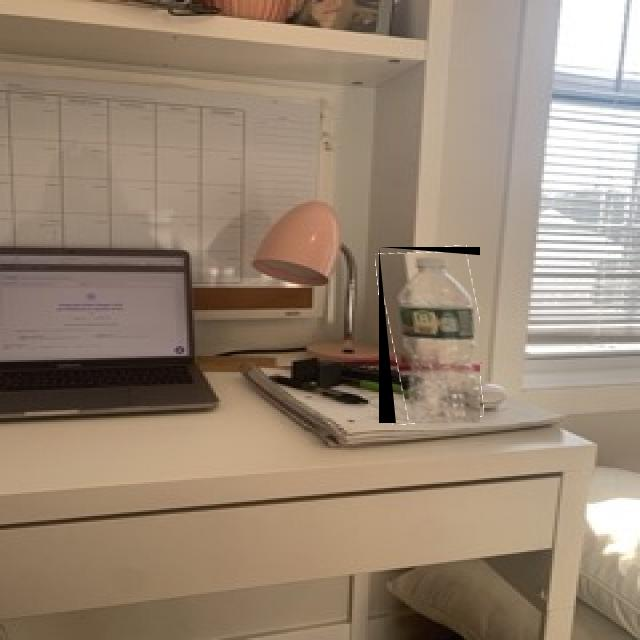water_bottle: (379, 247, 480, 423)
